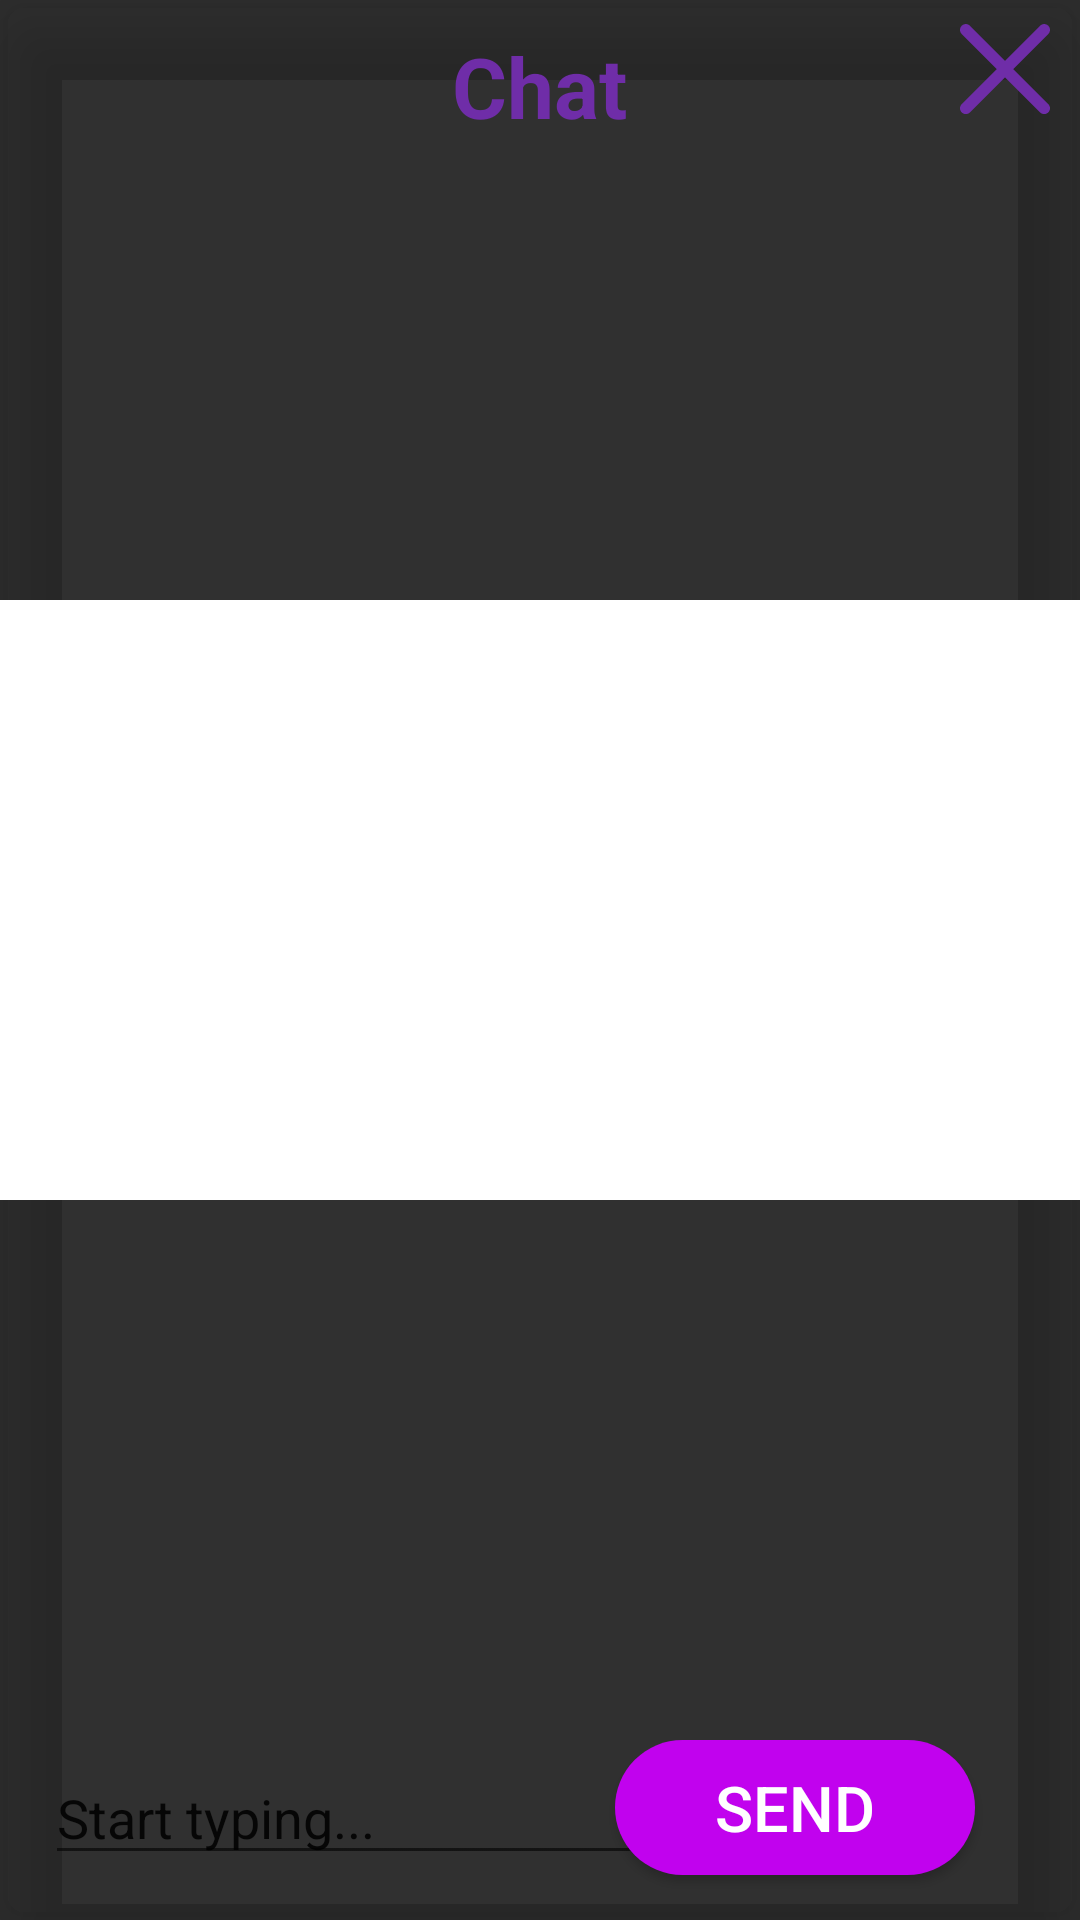

Screen size 1080*1920. Icon name, then its box in pixels as (x1=x1, y1=y1, x2=x2, y2=y2):
close: (x1=960, y1=24, x2=1050, y2=114)
